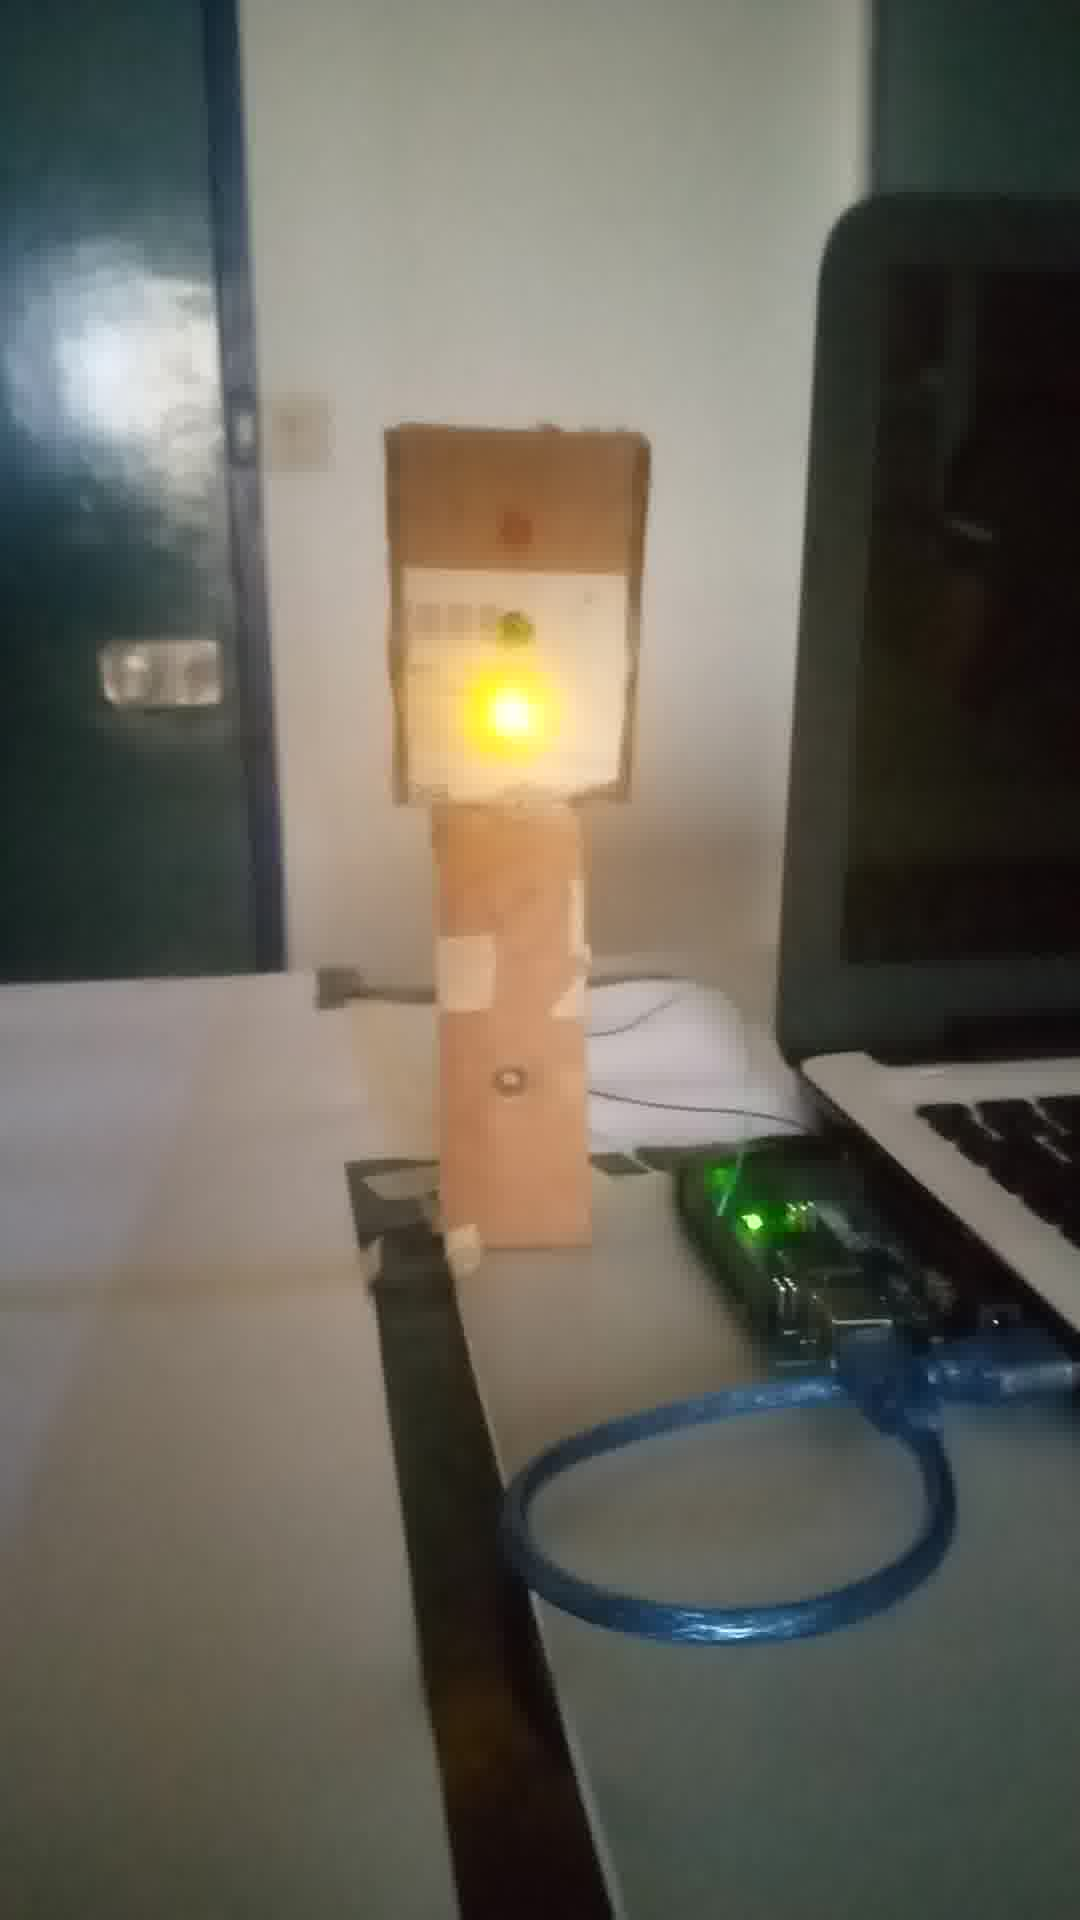green: (390, 419, 638, 814)
